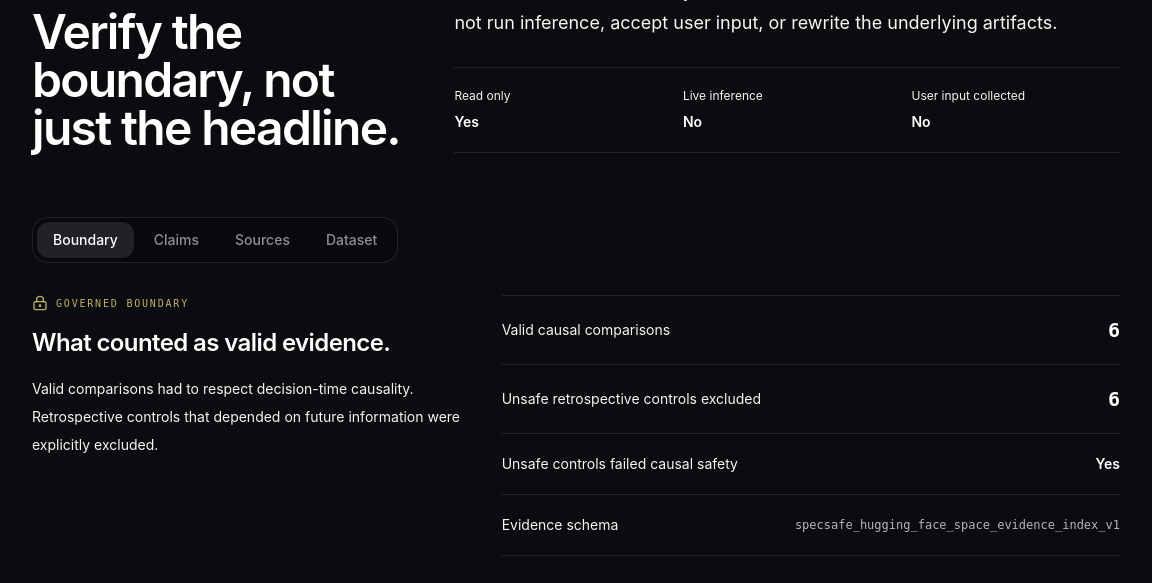
EvidenceExplorerSection › shows full source hashes and publication identity
Click the tab "Sources".
click(262, 240)  # box top-left (219, 222), bottom-right (306, 258)
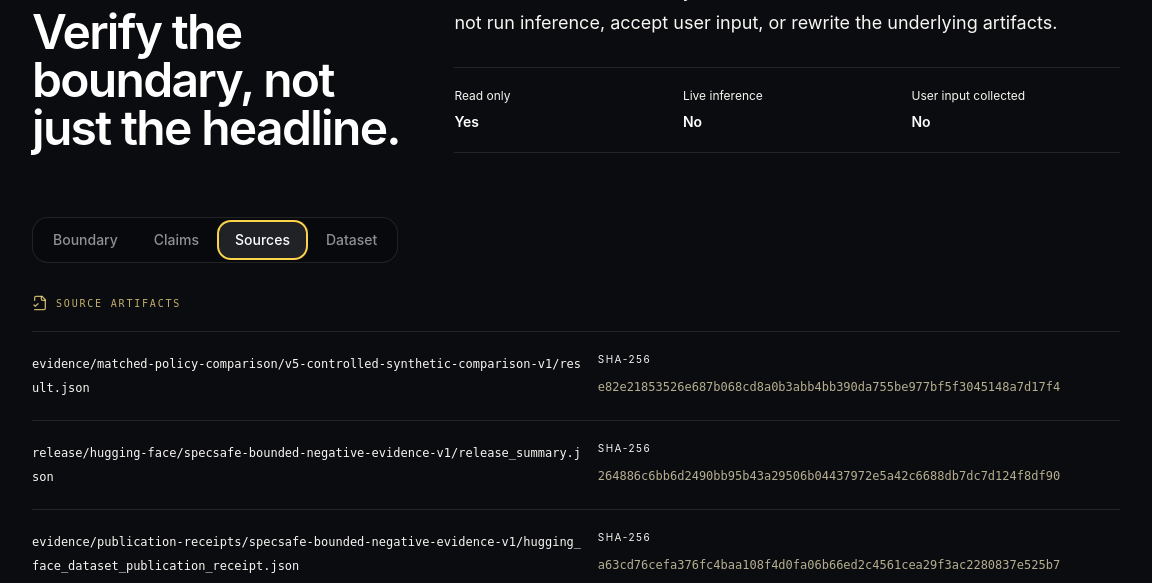
Expected: the text "e82e21853526e687b068cd8a0b3abb4bb390da755be977bf5f3045148a7d17f4" is shown, top-left (598, 380), bottom-right (1060, 394)
Click the tab "Dataset".
click(352, 240)  # box top-left (310, 222), bottom-right (393, 258)
(page scrolled)
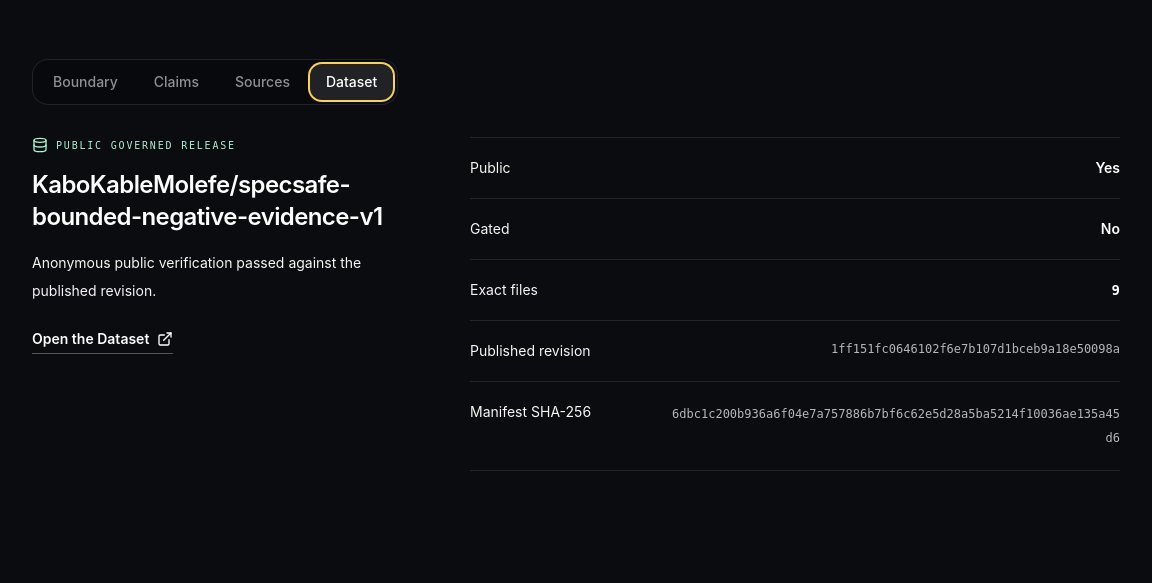
Expected: the text "1ff151fc0646102f6e7b107d1bceb9a18e50098a" is shown, top-left (831, 341), bottom-right (1120, 357)
Expected: the text "6dbc1c200b936a6f04e7a757886b7bf6c62e5d28a5ba5214f10036ae135a45d6" is shown, top-left (672, 402), bottom-right (1120, 450)
